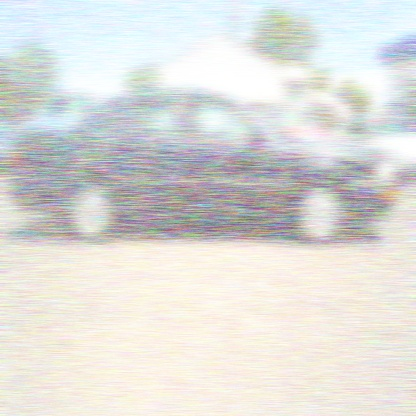Vehicle: (5, 89, 402, 248)
